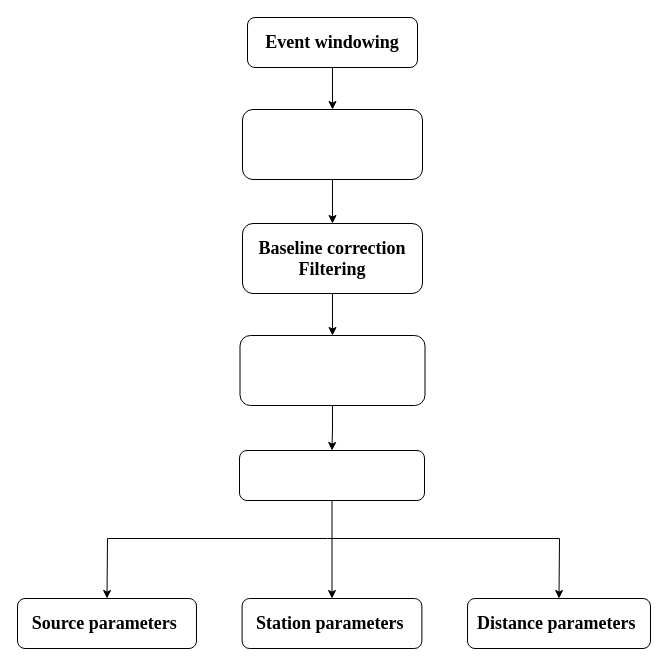
Some shapes in this 668 by 666 pixel diagram are drawn without their labels. Here are the shapes that lost their labels. From the top down, the box of each, then its label:
(242, 108, 422, 180): Picking P- & S-wave arrival time
(239, 334, 425, 406): Ground motion value calculation
(238, 450, 424, 500): Parameters setting
